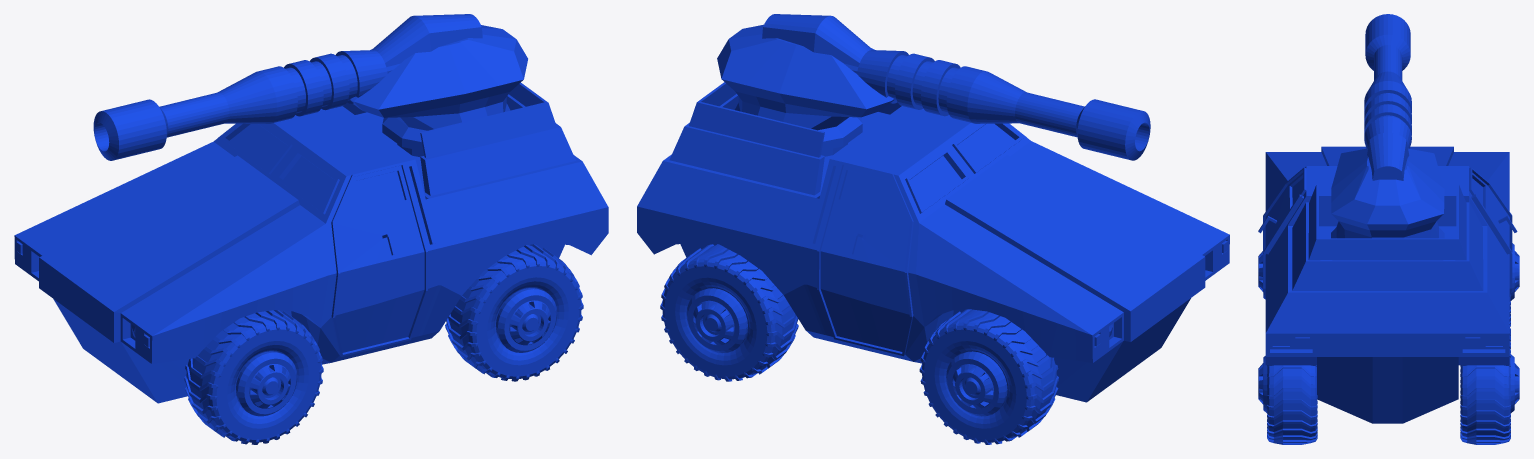
The model's file is PLAYER_UnitLight_00_2023-10-28.fbx.
The picture shows the model from 3 angles, left to right: view 1: azimuth 30°, elevation 25°; view 2: azimuth 150°, elevation 25°; view 3: azimuth 270°, elevation 25°; orthographic projection. The views are drawn at different scales.
Parts seen in each view (by area): view 1: LU; view 2: LU; view 3: LU.
Part boxes in pixels (x1=…): LU: x1=14, y1=14, x2=608, y2=444; LU: x1=637, y1=14, x2=1229, y2=444; LU: x1=1258, y1=14, x2=1519, y2=444.
Size of the model in its own units: 229 by 154 by 126.
